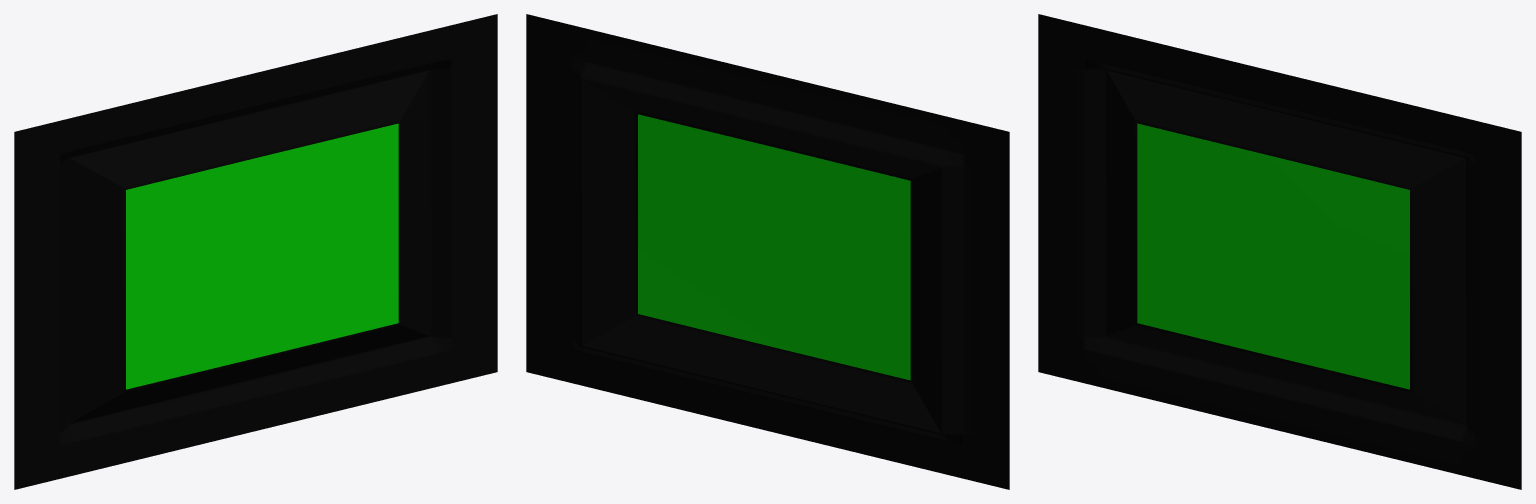
Rendered from Dead_end.fbx.
3 views of the same model, side by side, from view 1: azimuth 30°, elevation 25°; view 2: azimuth 150°, elevation 25°; view 3: azimuth 330°, elevation 25° (orthographic).
Parts seen in each view (by area): view 1: Dead_end; view 2: Dead_end; view 3: Dead_end.
Boxes of the visible parts, <box> form: Dead_end: <box>14,14,497,489</box>; Dead_end: <box>526,14,1009,489</box>; Dead_end: <box>1038,14,1521,489</box>.
Size of the model in its own units: 6 by 4.25 by 0.2757.
